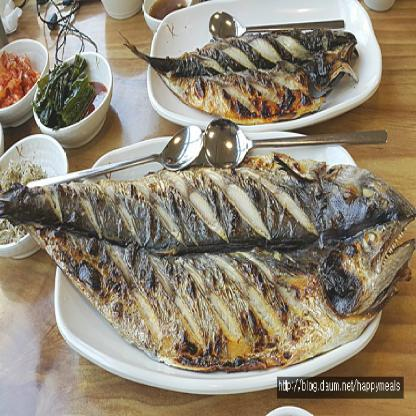Peixe: (0, 151, 416, 390), (129, 1, 376, 133)
